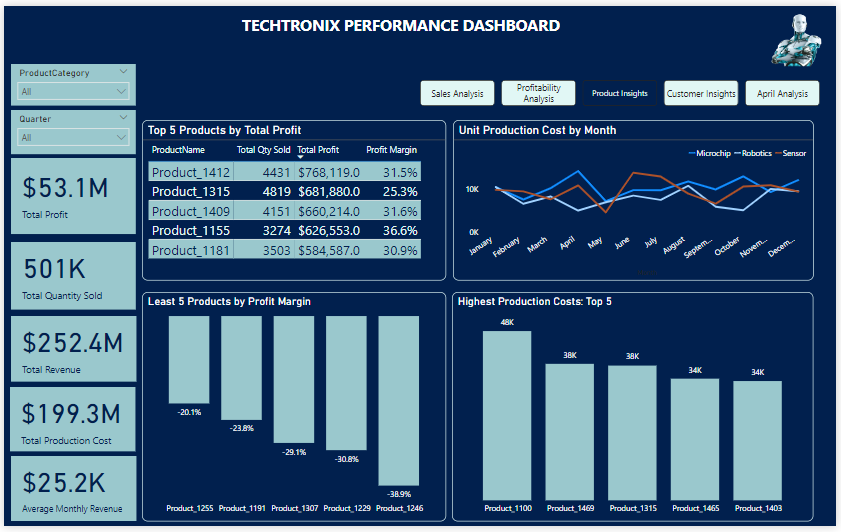

What the dashboard file says about the page in this screenshot:
{"tool":"powerbi","page":{"name":"Product Insights","canvas":[1280,800],"ordinal":2},"visuals":[{"type":"cardVisual","fields":{"Data":["Calculated Measures.Total Profit"]},"box":[11.1,233.3,191.9,117.2],"z":0},{"type":"cardVisual","fields":{"Data":["Calculated Measures.Total Qty Sold"]},"box":[11.1,362.6,191.9,104],"z":1000},{"type":"cardVisual","fields":{"Data":["Calculated Measures.Average Monthly Revenue"]},"box":[10.1,691.9,192.9,100],"z":2000},{"type":"cardVisual","fields":{"Data":["Calculated Measures.Total sales"]},"box":[10.1,476.8,192.9,101],"z":3000},{"type":"cardVisual","fields":{"Data":["Calculated Measures.Total Production Cost"]},"box":[9.1,585.9,192.9,99],"z":4000},{"type":"textbox","box":[218.2,8.1,783.8,49.5],"z":5000},{"type":"tableEx","title":"Top 5 Products by Total Profit","fields":{"Values":["Product Dim.ProductName","Calculated Measures.Total Qty Sold","Calculated Measures.Total Profit","Calculated Measures.Sales Margin"]},"box":[212.1,175.8,467.7,247.5],"z":6000},{"type":"clusteredColumnChart","title":"Least 5 Products by Profit Margin","fields":{"Category":["Product Dim.ProductName"],"Y":["Calculated Measures.Profit Margin"]},"box":[212.1,439.4,467.7,352.5],"z":7000},{"type":"clusteredColumnChart","title":"Highest Production Costs: Top  5","fields":{"Category":["Product Dim.ProductName"],"Y":["Sum(TECHTRONIX.ProductionCost)"]},"box":[688.9,439.4,555.6,352.5],"z":8000},{"type":"lineChart","title":"Unit Production Cost by Month","fields":{"Category":["Calendar Dim.Month"],"Series":["Product Dim.ProductCategory"],"Y":["Sum(TECHTRONIX.ProductionCost)"]},"box":[690,176,555,247],"z":9000},{"type":"slicer","fields":{"Values":["Calendar Dim.Quarter"]},"box":[11.1,160.6,191.9,67.7],"z":10000},{"type":"slicer","fields":{"Values":["Product Dim.ProductCategory"]},"box":[10.1,89.9,191.9,63.6],"z":11000},{"type":"pageNavigator","box":[640.4,113.1,619.2,40.4],"z":12000},{"type":"image","box":[1158.6,8.1,121.2,89.9],"z":13000}]}

Visuals, with their boxes in screenshot pixels (x1, y1, x2, y2), scaled from the page's 1280x800 canvas onto the 841x532 screenshot:
cardVisual - Calculated Measures.Total Profit: bbox=[7, 155, 133, 233]
cardVisual - Calculated Measures.Total Qty Sold: bbox=[7, 241, 133, 310]
cardVisual - Calculated Measures.Average Monthly Revenue: bbox=[7, 460, 133, 527]
cardVisual - Calculated Measures.Total sales: bbox=[7, 317, 133, 384]
cardVisual - Calculated Measures.Total Production Cost: bbox=[6, 390, 133, 455]
textbox: bbox=[143, 5, 658, 38]
"Top 5 Products by Total Profit" tableEx: bbox=[139, 117, 447, 281]
"Least 5 Products by Profit Margin" clusteredColumnChart: bbox=[139, 292, 447, 527]
"Highest Production Costs: Top  5" clusteredColumnChart: bbox=[453, 292, 818, 527]
"Unit Production Cost by Month" lineChart: bbox=[453, 117, 818, 281]
slicer - Calendar Dim.Quarter: bbox=[7, 107, 133, 152]
slicer - Product Dim.ProductCategory: bbox=[7, 60, 133, 102]
pageNavigator: bbox=[421, 75, 828, 102]
image: bbox=[761, 5, 840, 65]
